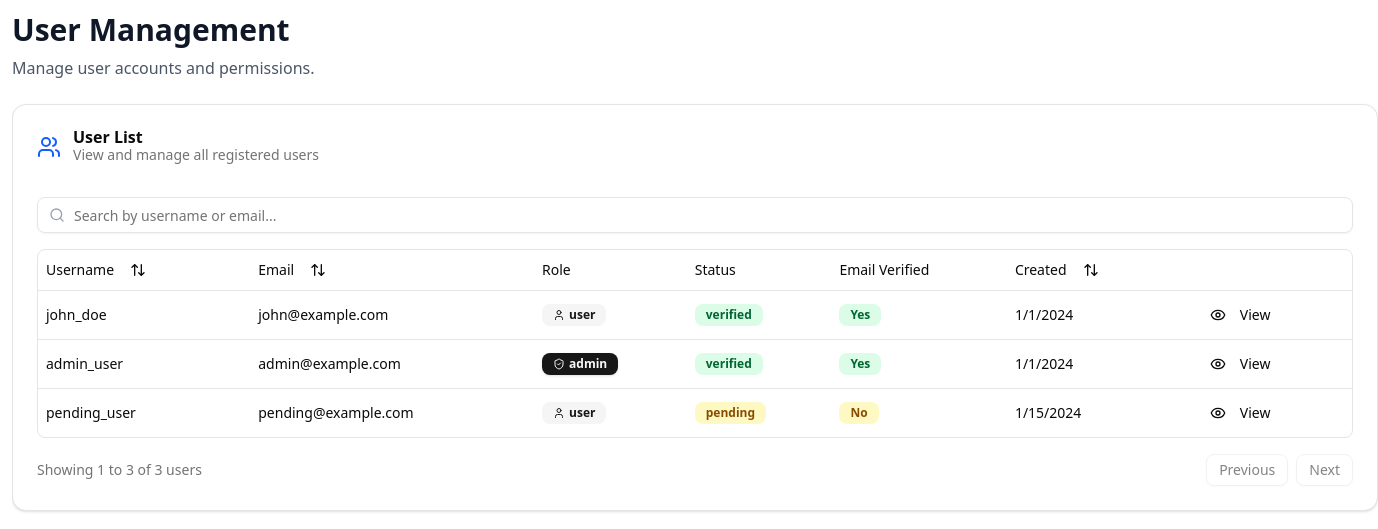
Test case: UserManagement › filters users based on search input
The width and height of the screenshot is (1378, 529).
Expected: the text "john_doe" is shown, [46,304,107,324]
Type "john" into the field with placeholder "Search by username or email..." at (695, 215), box [37,197,1353,233]
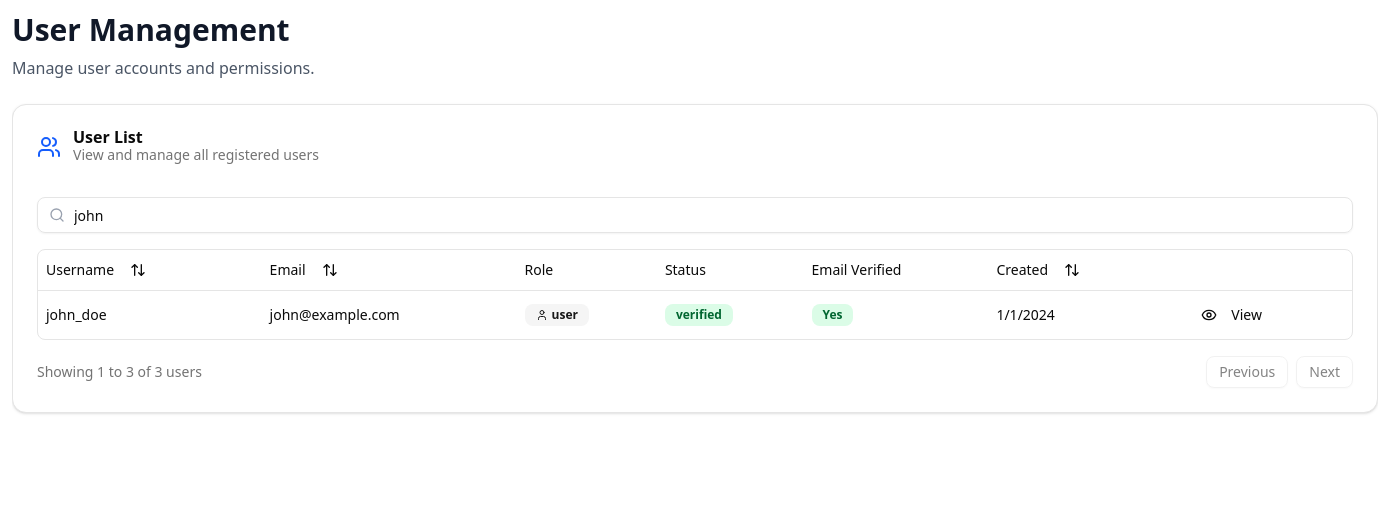
Expected: the text "john_doe" is shown, [46,304,107,324]
Result: the text "admin_user" is gone
Result: the text "pending_user" is gone
